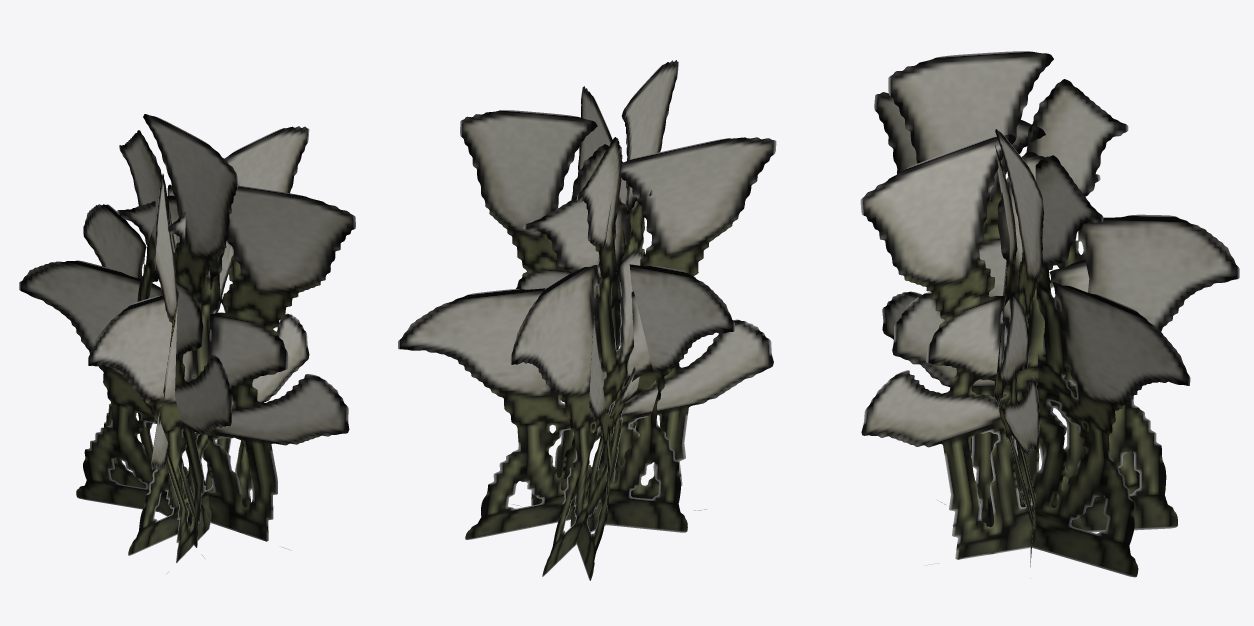
The model's file is ChurchBellFlowers.fbx.
3 views of the same model, side by side, from view 1: azimuth 30°, elevation 25°; view 2: azimuth 150°, elevation 25°; view 3: azimuth 270°, elevation 25° (orthographic). The views are drawn at different scales.
Parts seen in each view (by area): view 1: ChurchbellFlowers; view 2: ChurchbellFlowers; view 3: ChurchbellFlowers.
Boxes of the visible parts, <box> form: ChurchbellFlowers: <box>19,114,355,574</box>; ChurchbellFlowers: <box>398,60,776,580</box>; ChurchbellFlowers: <box>860,51,1239,578</box>.
Bounding box in the file's own units: 250 × 400 × 297.
1 material, 1 textured.
